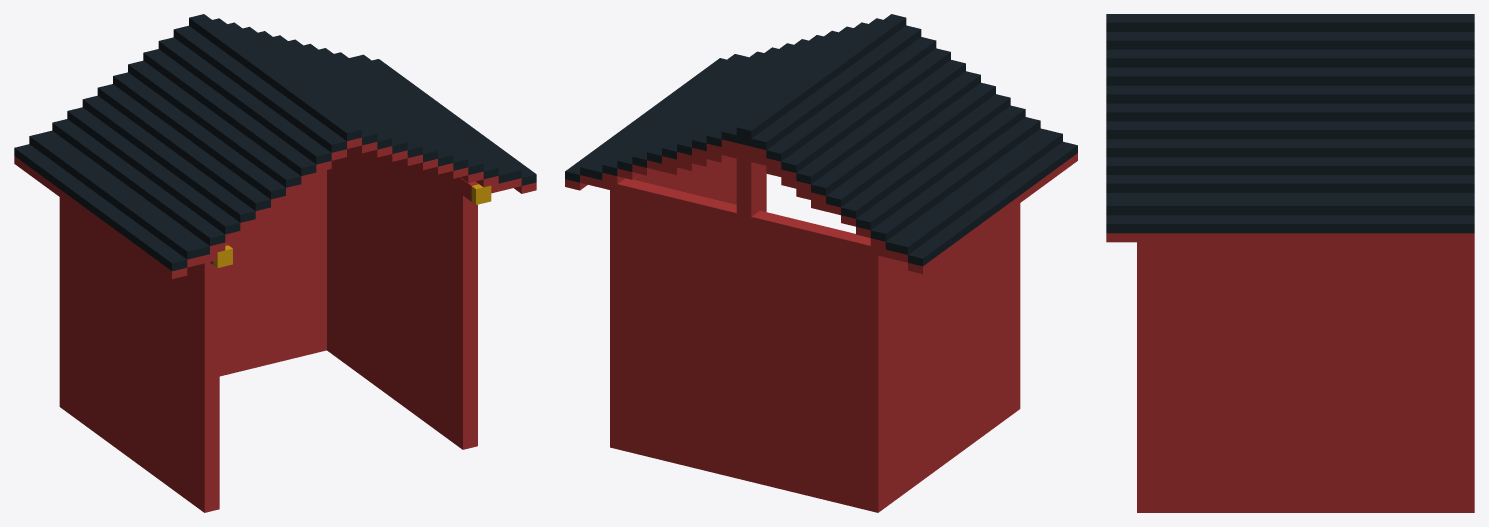
Rendered from mapkari-16.obj.
The picture shows the model from 3 angles, left to right: view 1: azimuth 30°, elevation 25°; view 2: azimuth 150°, elevation 25°; view 3: azimuth 270°, elevation 25°; orthographic projection. The views are drawn at different scales.
Visible parts, largest first — view 1: mapkari-16; view 2: mapkari-16; view 3: mapkari-16.
Boxes of the visible parts, left/top/right/bottom form: mapkari-16: left=14, top=14, right=536, bottom=512; mapkari-16: left=565, top=14, right=1077, bottom=512; mapkari-16: left=1106, top=14, right=1474, bottom=512.
Bounding box in the file's own units: 48 × 45 × 36.
